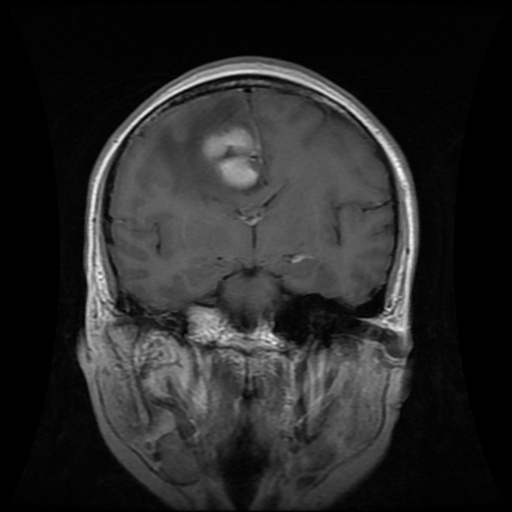meningioma: (204, 125, 260, 190)
